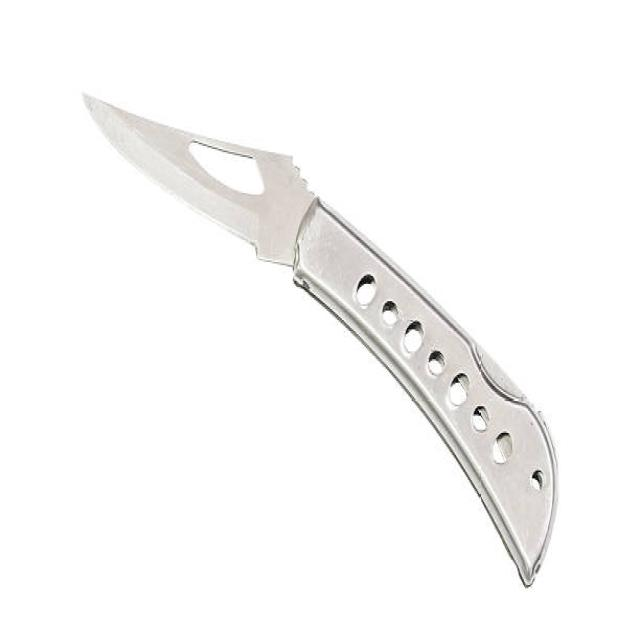knife: (74, 82, 568, 609)
